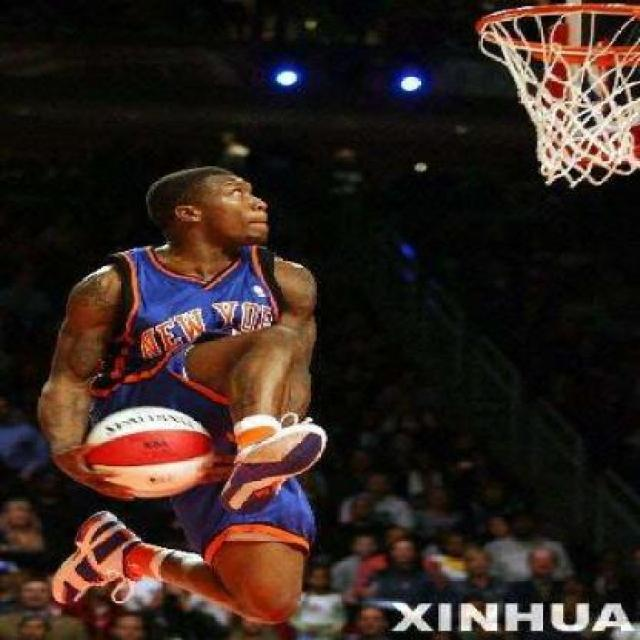basketball: (84, 406, 214, 500)
rim: (475, 4, 640, 187)
